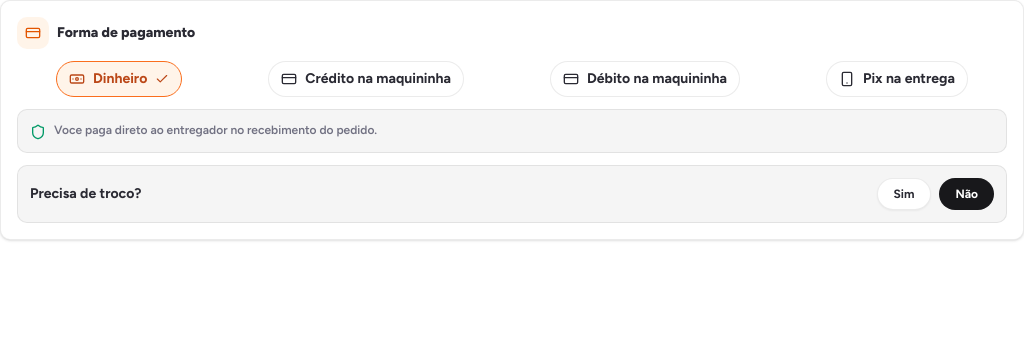
PaymentMethod › trocar para cartão apaga o troco e explica o pagamento na entrega
This screenshot has width=1024, height=351.
Click the button "Sim".
click(904, 194)  # box [876, 178, 931, 210]
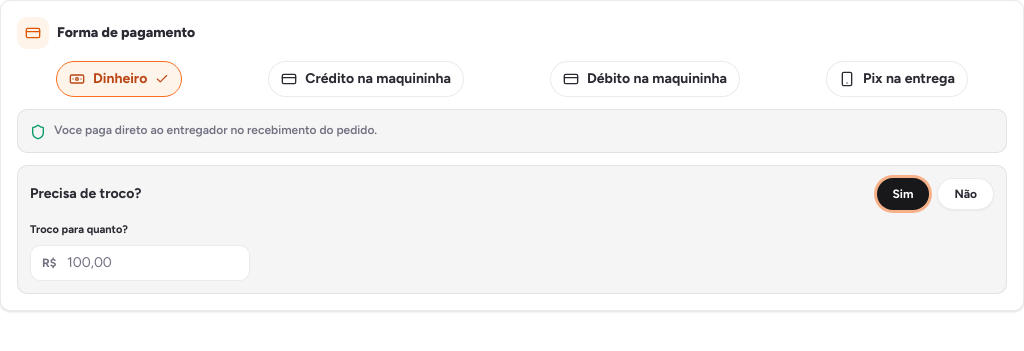
Type "50" into the field labelled "Troco para quanto?".
click(140, 262); type("50")  # box [30, 244, 250, 280]
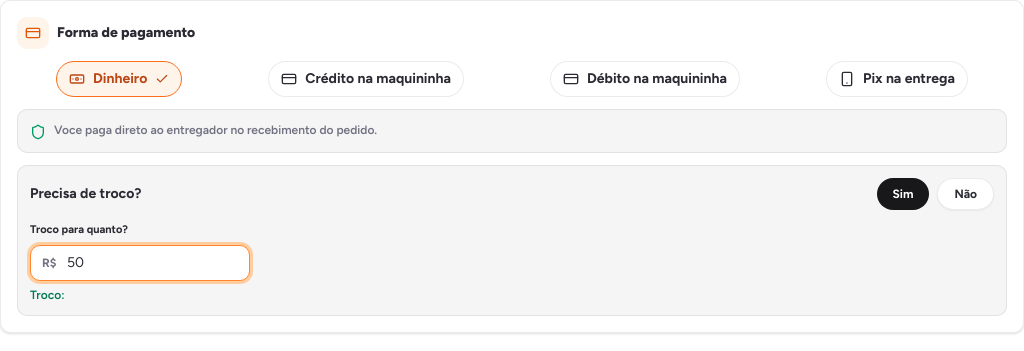
Click the button "Débito na maquininha".
click(645, 79)  # box [550, 61, 740, 97]
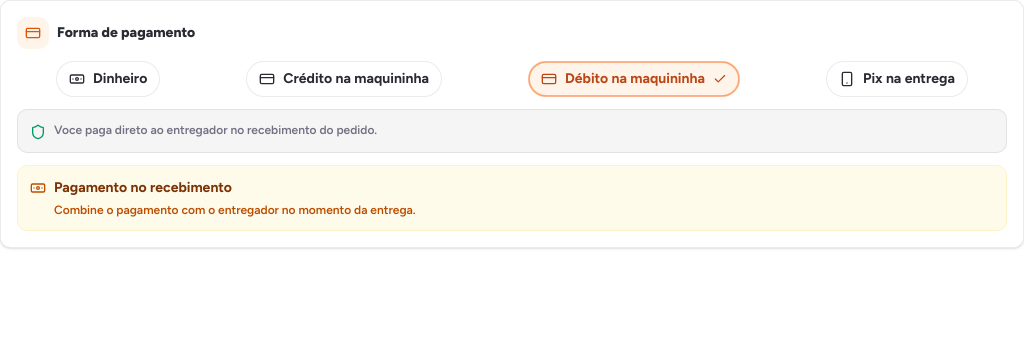
expect the text "Precisa de troco?" is gone: met
expect the text "Pagamento no recebimento" is shown: met, box [54, 179, 232, 196]
